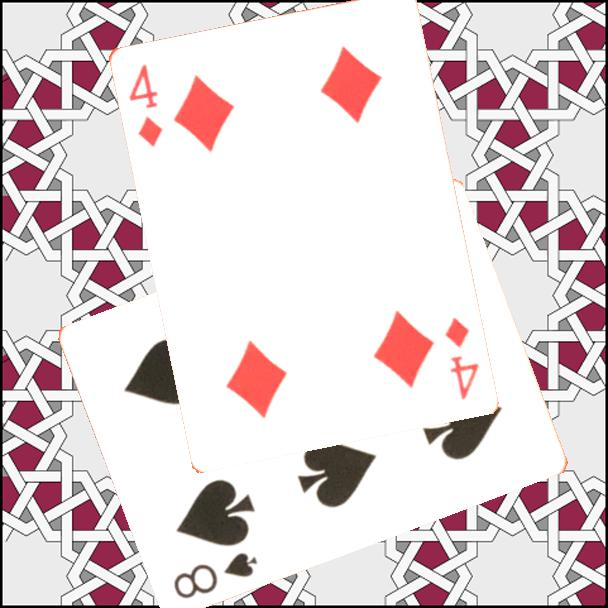d04: (124, 60, 165, 149), (441, 313, 481, 402)
s08: (170, 548, 261, 601)
